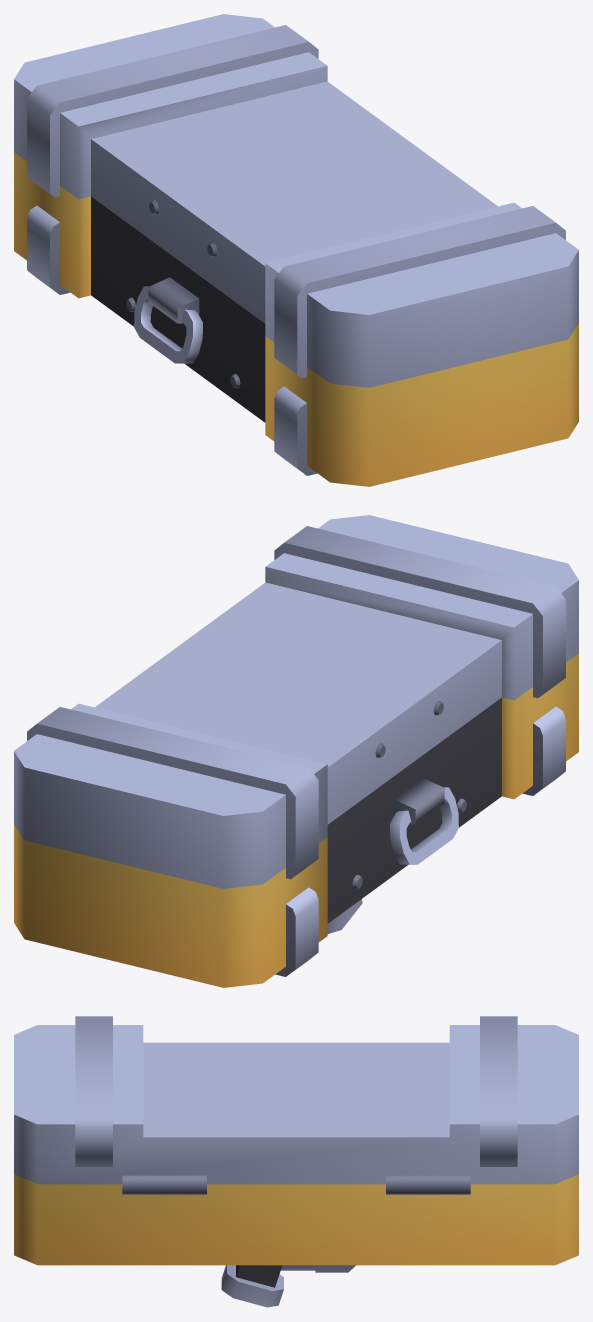
File: blaster.glb
3 views of the same model, one above another, from view 1: azimuth 30°, elevation 25°; view 2: azimuth 150°, elevation 25°; view 3: azimuth 270°, elevation 25° (orthographic). The views are drawn at different scales.
Parts seen in each view (by area): view 1: crate; view 2: crate; view 3: crate, launcher.
Part boxes in pixels (left/top/right/bottom): crate: left=14, top=14, right=578, bottom=486; crate: left=14, top=515, right=578, bottom=987; crate: left=14, top=1016, right=578, bottom=1265; launcher: left=221, top=1265, right=355, bottom=1307.
Bounding box in the file's own units: 0.5495 × 0.5471 × 1.2.
1 material, 1 textured.
